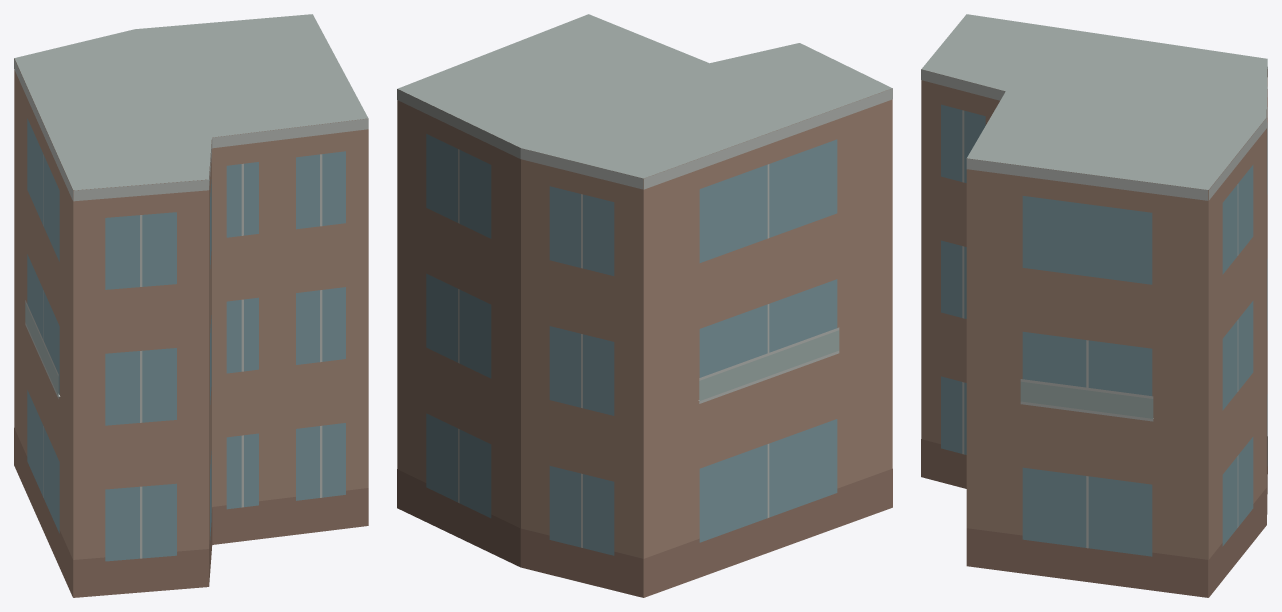
The model's file is survey-upis-33020230.glb.
3 views of the same model, side by side, from view 1: azimuth 30°, elevation 25°; view 2: azimuth 150°, elevation 25°; view 3: azimuth 270°, elevation 25° (orthographic). The views are drawn at different scales.
Parts seen in each view (by area): view 1: survey-upis-33020230.tmp; view 2: survey-upis-33020230.tmp; view 3: survey-upis-33020230.tmp.
Boxes of the visible parts, x1,y1,x2,y2 form: survey-upis-33020230.tmp: (14, 14, 368, 597); survey-upis-33020230.tmp: (397, 14, 892, 597); survey-upis-33020230.tmp: (921, 14, 1267, 597).
Size of the model in its own units: 8.48 by 9.15 by 7.06.
